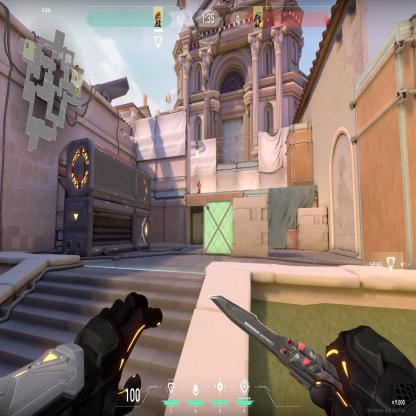enemy: (196, 177, 201, 193)
